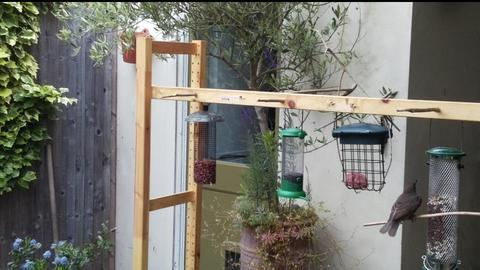starling: (379, 178, 422, 237)
